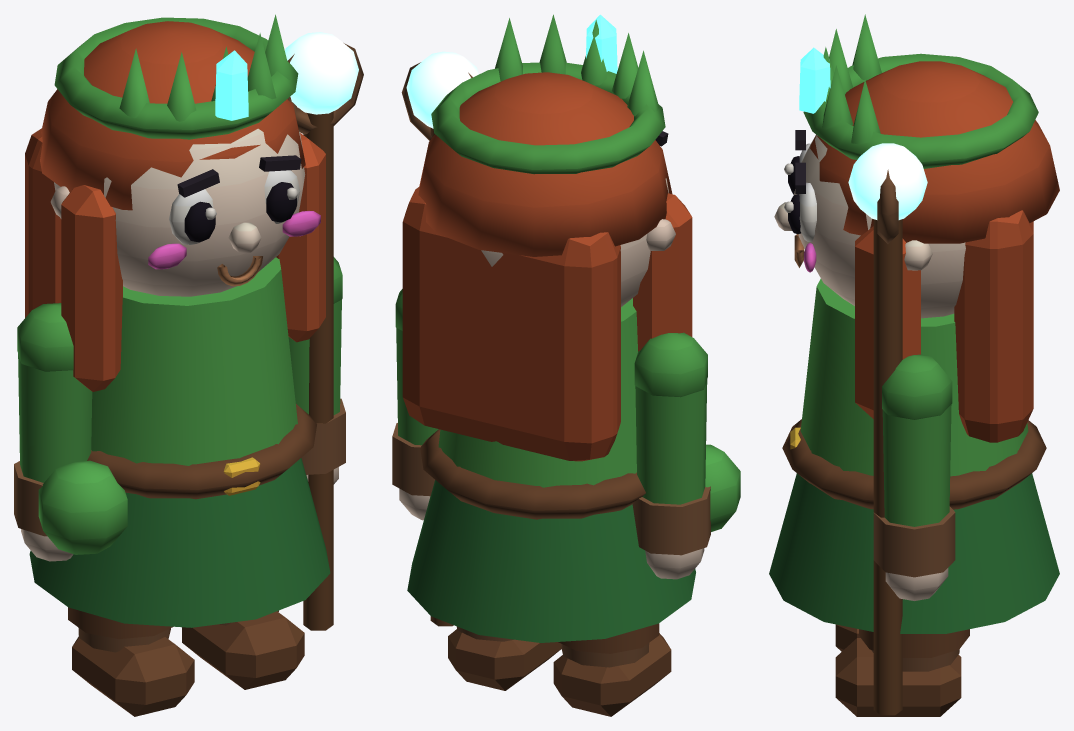
File: hero_thalia.glb
The picture shows the model from 3 angles, left to right: view 1: azimuth 30°, elevation 25°; view 2: azimuth 150°, elevation 25°; view 3: azimuth 270°, elevation 25°; orthographic projection. The views are drawn at different scales.
Parts seen in each view (by area): view 1: body_t0_palette, arml_t0_palette, armr_t0_palette, legl_t0_palette, legr_t0_palette, armr_t0_glow_teal, body_t0_crystal; view 2: body_t0_palette, arml_t0_palette, legl_t0_palette, armr_t0_palette, legr_t0_palette, armr_t0_glow_teal, body_t0_crystal; view 3: body_t0_palette, armr_t0_palette, legr_t0_palette, armr_t0_glow_teal, body_t0_crystal, legl_t0_palette.
Boxes of the visible parts, bbox=[...] form: body_t0_palette: bbox=[25, 14, 330, 627]; arml_t0_palette: bbox=[14, 303, 127, 561]; armr_t0_palette: bbox=[287, 43, 363, 630]; legl_t0_palette: bbox=[68, 607, 194, 716]; legr_t0_palette: bbox=[182, 610, 304, 689]; armr_t0_glow_teal: bbox=[285, 32, 358, 114]; body_t0_crystal: bbox=[215, 50, 248, 120]; body_t0_palette: bbox=[402, 14, 695, 642]; arml_t0_palette: bbox=[632, 332, 740, 579]; legl_t0_palette: bbox=[553, 623, 671, 716]; armr_t0_palette: bbox=[392, 62, 472, 626]; legr_t0_palette: bbox=[448, 626, 561, 690]; armr_t0_glow_teal: bbox=[406, 51, 478, 128]; body_t0_crystal: bbox=[586, 14, 617, 73]; body_t0_palette: bbox=[769, 14, 1059, 633]; armr_t0_palette: bbox=[873, 169, 955, 715]; legr_t0_palette: bbox=[835, 629, 969, 716]; armr_t0_glow_teal: bbox=[848, 143, 927, 219]; body_t0_crystal: bbox=[799, 47, 830, 113]; legl_t0_palette: bbox=[835, 624, 860, 651].
Size of the model in its own units: 0.2793 by 0.53 by 0.22.
